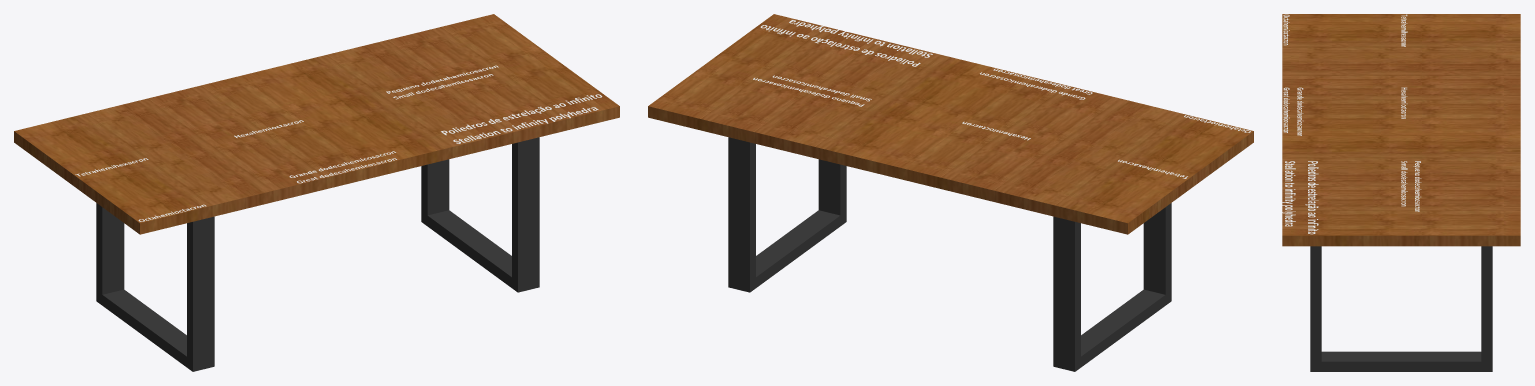
File: infinity1.glb
3 views of the same model, side by side, from view 1: azimuth 30°, elevation 25°; view 2: azimuth 150°, elevation 25°; view 3: azimuth 270°, elevation 25° (orthographic). The views are drawn at different scales.
Visible parts, largest first — view 1: root; view 2: root; view 3: root.
Boxes of the visible parts, x1=… form: root: x1=14, y1=14, x2=619, y2=371; root: x1=648, y1=14, x2=1253, y2=371; root: x1=1282, y1=14, x2=1520, y2=371.
Bounding box in the file's own units: 2.2 × 0.7711 × 1.
Materials: 3 (1 with a texture image).
